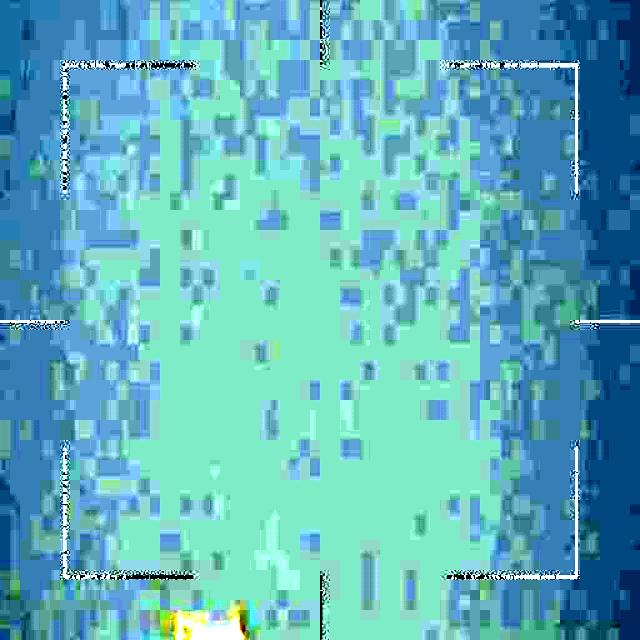bird: (148, 610, 246, 640)
